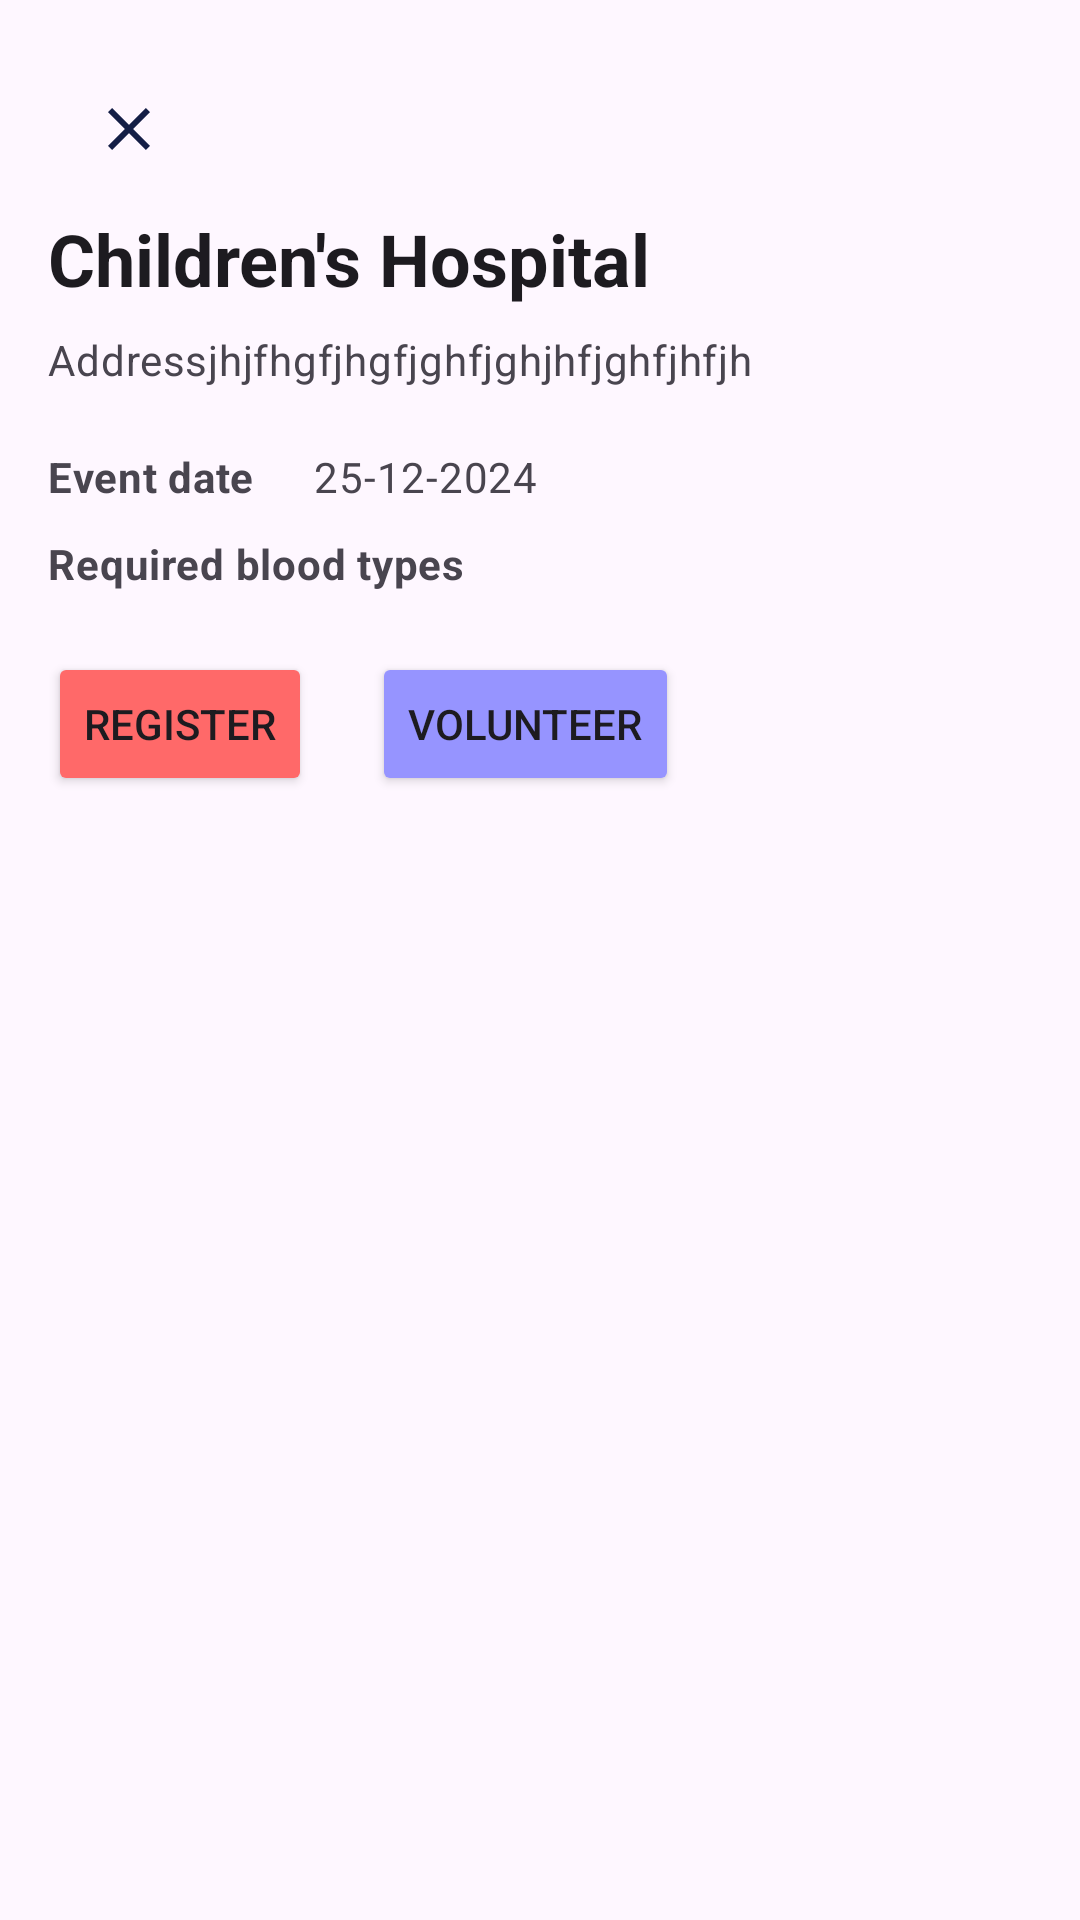

Screen size 1080×1920. Icon name, then its center in pixels as (x,y):
Close: (129,129)
